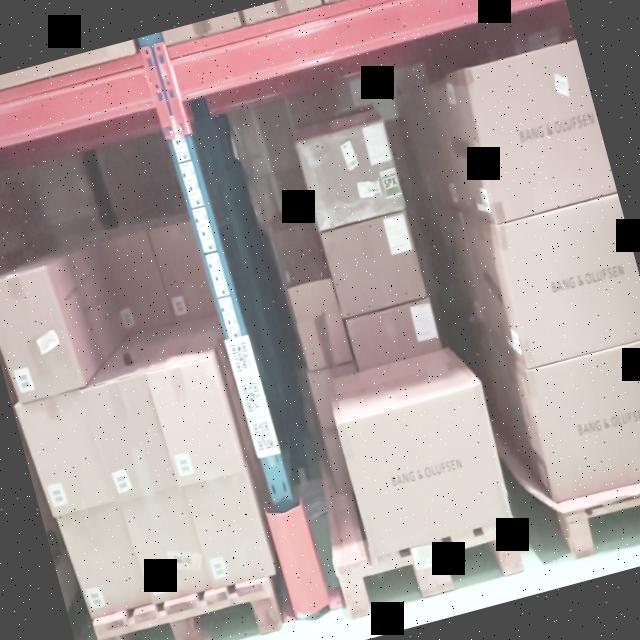box: (336, 384, 512, 557), (143, 349, 243, 492), (16, 392, 116, 518), (295, 117, 406, 227), (322, 210, 428, 318), (86, 376, 176, 503), (55, 503, 149, 623), (0, 264, 84, 398), (182, 468, 274, 588), (123, 494, 205, 601)
